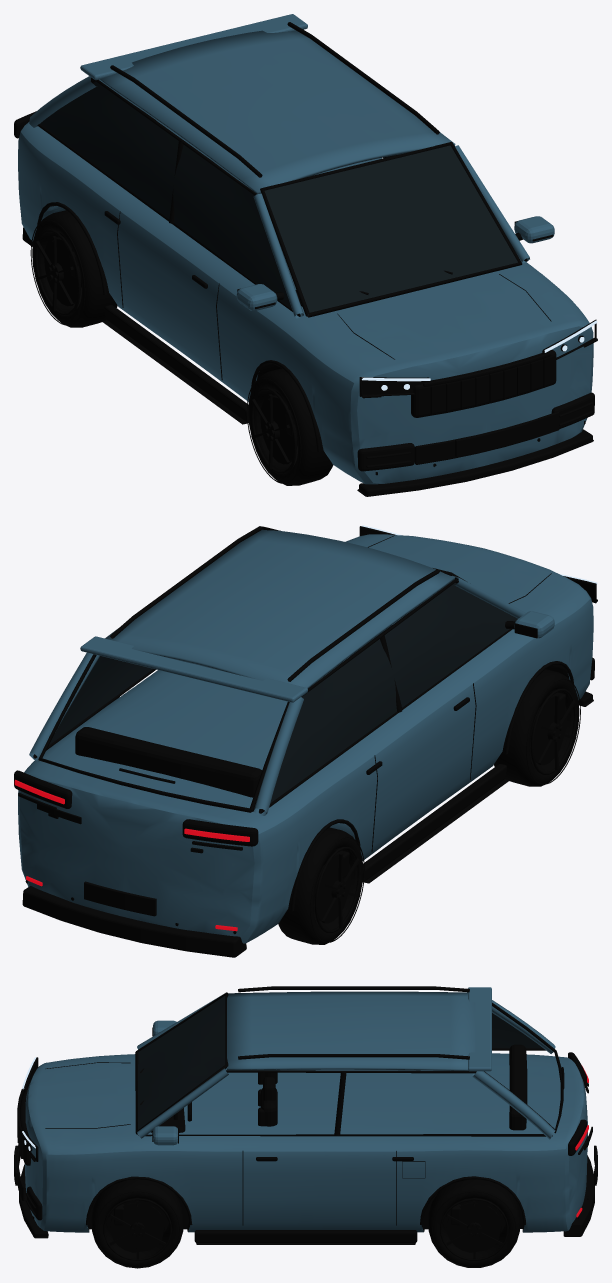
The model's file is suv.glb.
The picture shows the model from 3 angles, top to bottom: view 1: azimuth 30°, elevation 25°; view 2: azimuth 150°, elevation 25°; view 3: azimuth 270°, elevation 25°; orthographic projection. The views are drawn at different scales.
Parts seen in each view (by area): view 1: chassis.001__Automotive clearcoat, chassis.001__Solar glass, chassis.001__Vehicle detail atlas, wheel_FL.001__Vehicle detail atlas, wheel_RL.001__Vehicle detail atlas; view 2: chassis.001__Automotive clearcoat, chassis.001__Vehicle detail atlas, chassis.001__Solar glass, wheel_RL.001__Vehicle detail atlas, wheel_FL.001__Vehicle detail atlas, chassis.001__Red LED optics; view 3: chassis.001__Automotive clearcoat, chassis.001__Vehicle detail atlas, chassis.001__Solar glass, wheel_FR.001__Vehicle detail atlas, wheel_RR.001__Vehicle detail atlas.
Part boxes in pixels (<box>): chassis.001__Automotive clearcoat: <box>18,14,593,484</box>; chassis.001__Solar glass: <box>40,82,517,315</box>; chassis.001__Vehicle detail atlas: <box>14,22,596,496</box>; wheel_FL.001__Vehicle detail atlas: <box>246,368,333,485</box>; wheel_RL.001__Vehicle detail atlas: <box>30,210,117,327</box>; chassis.001__Automotive clearcoat: <box>18,529,593,943</box>; chassis.001__Vehicle detail atlas: <box>14,526,596,957</box>; chassis.001__Solar glass: <box>49,582,517,802</box>; wheel_RL.001__Vehicle detail atlas: <box>278,827,364,944</box>; wheel_FL.001__Vehicle detail atlas: <box>494,669,580,786</box>; chassis.001__Red LED optics: <box>14,779,249,931</box>; chassis.001__Automotive clearcoat: <box>24,987,587,1232</box>; chassis.001__Vehicle detail atlas: <box>14,986,597,1244</box>; chassis.001__Solar glass: <box>138,996,542,1129</box>; wheel_FR.001__Vehicle detail atlas: <box>91,1179,183,1268</box>; wheel_RR.001__Vehicle detail atlas: <box>428,1179,519,1267</box>.
Bounding box in the file's own units: 2.18 × 1.73 × 4.63.
8 materials, 6 textured.
